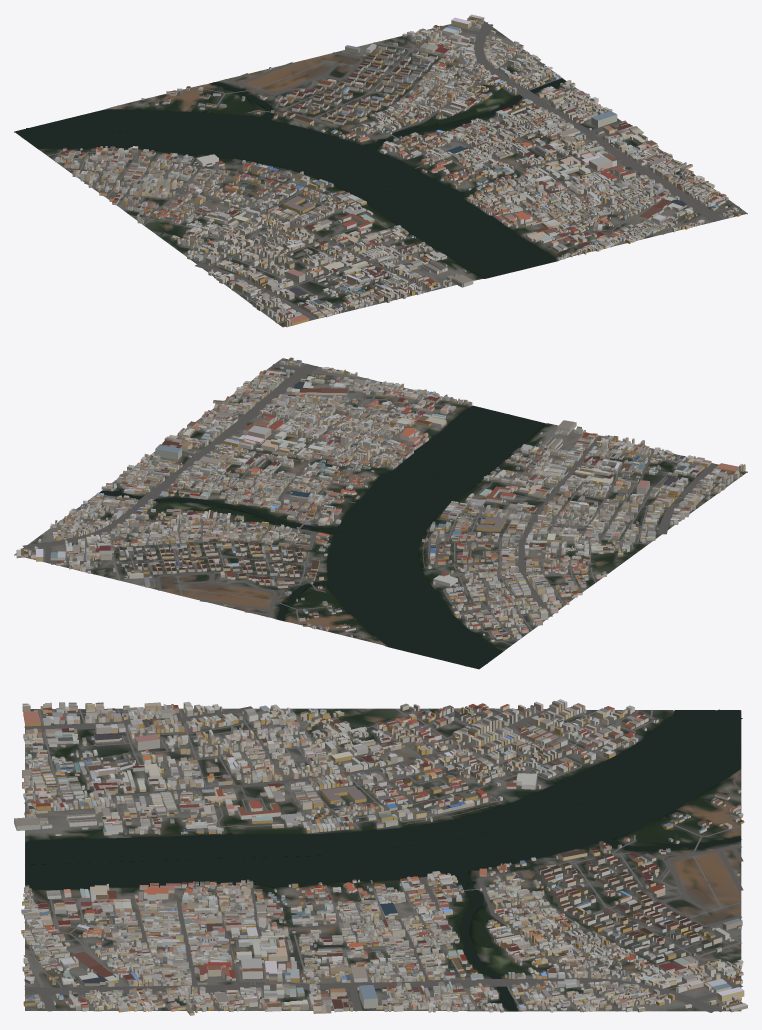
The picture shows the model from 3 angles, top to bottom: view 1: azimuth 30°, elevation 25°; view 2: azimuth 150°, elevation 25°; view 3: azimuth 270°, elevation 25°; orthographic projection. The views are drawn at different scales.
Visible parts, largest first — view 1: buildings, ground, water, roads; view 2: buildings, ground, water, roads; view 3: buildings, ground, water, roads.
Part boxes in pixels (box(x1,y1,x2,y2)): buildings: box(55, 14, 740, 327); ground: box(14, 20, 747, 327); water: box(15, 78, 565, 278); roads: box(47, 22, 741, 323); buildings: box(16, 357, 745, 641); ground: box(14, 358, 747, 669); water: box(99, 405, 544, 668); roads: box(20, 359, 742, 645); buildings: box(14, 699, 747, 1015); ground: box(25, 708, 741, 1011); water: box(25, 709, 742, 1011); roads: box(23, 706, 743, 1012).
Size of the model in its own units: 1432 by 33.71 by 1435.
